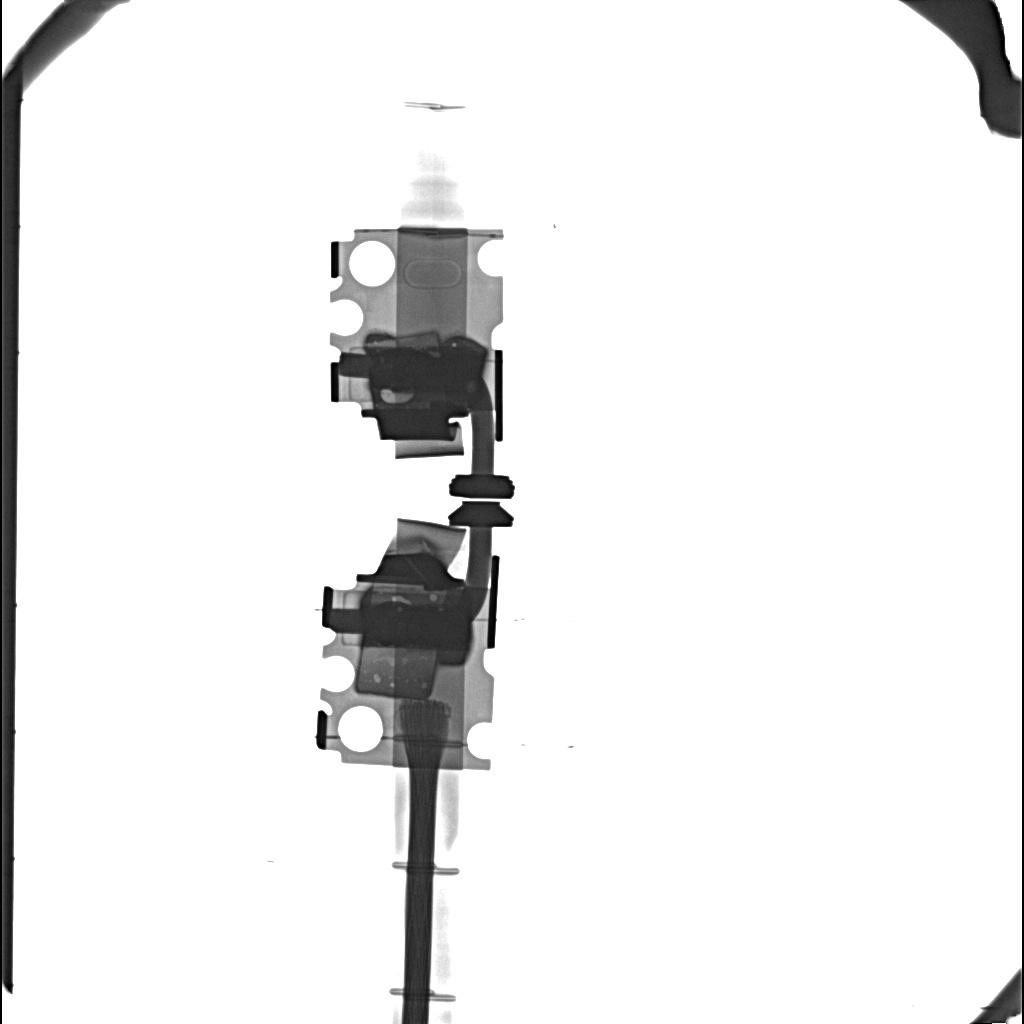defect: (365, 605, 468, 649), (354, 647, 439, 700), (371, 348, 483, 387), (366, 330, 442, 351), (381, 388, 415, 403), (392, 595, 413, 606), (430, 594, 436, 601)
